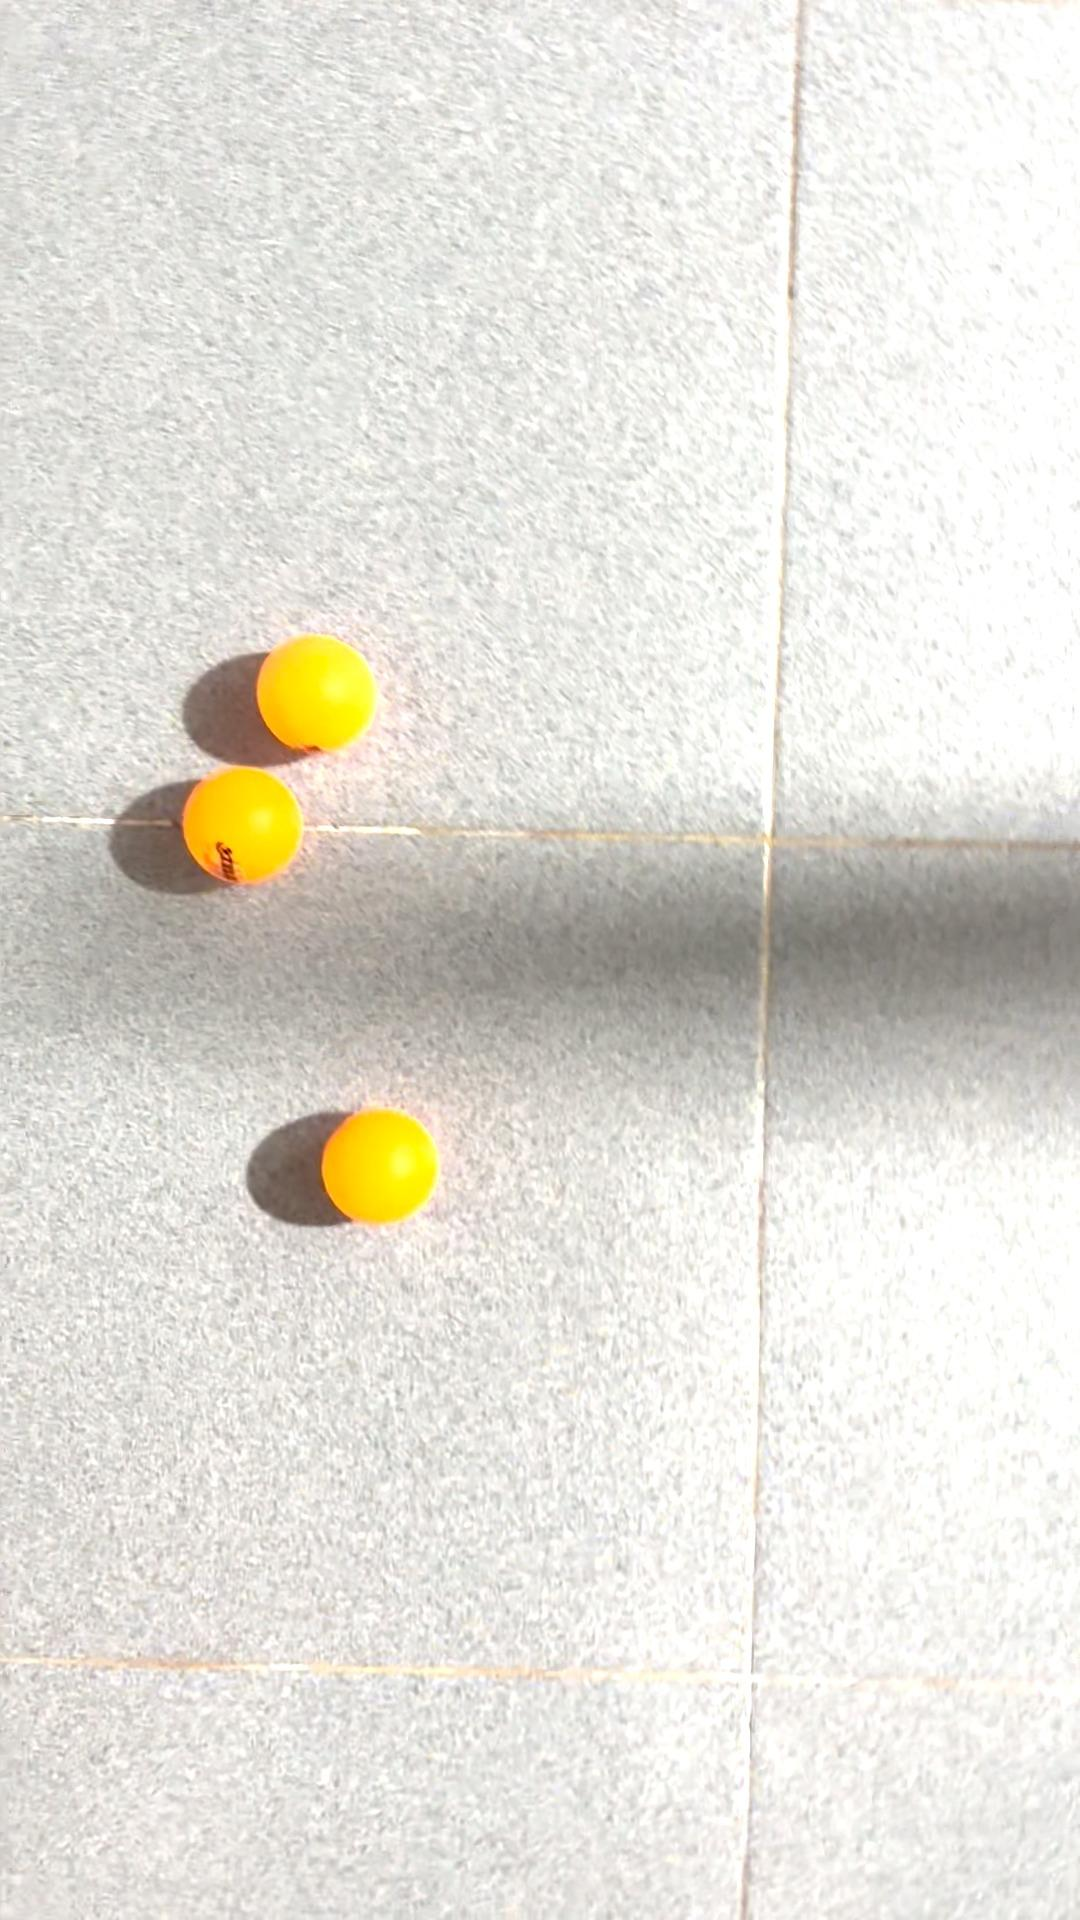oball: (167, 762, 328, 903), (314, 1095, 458, 1240), (248, 625, 390, 770)
